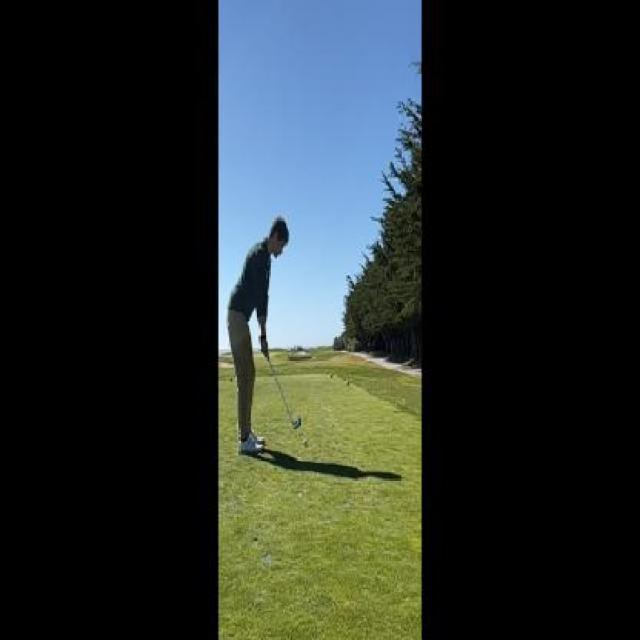club head: (288, 412, 302, 431)
